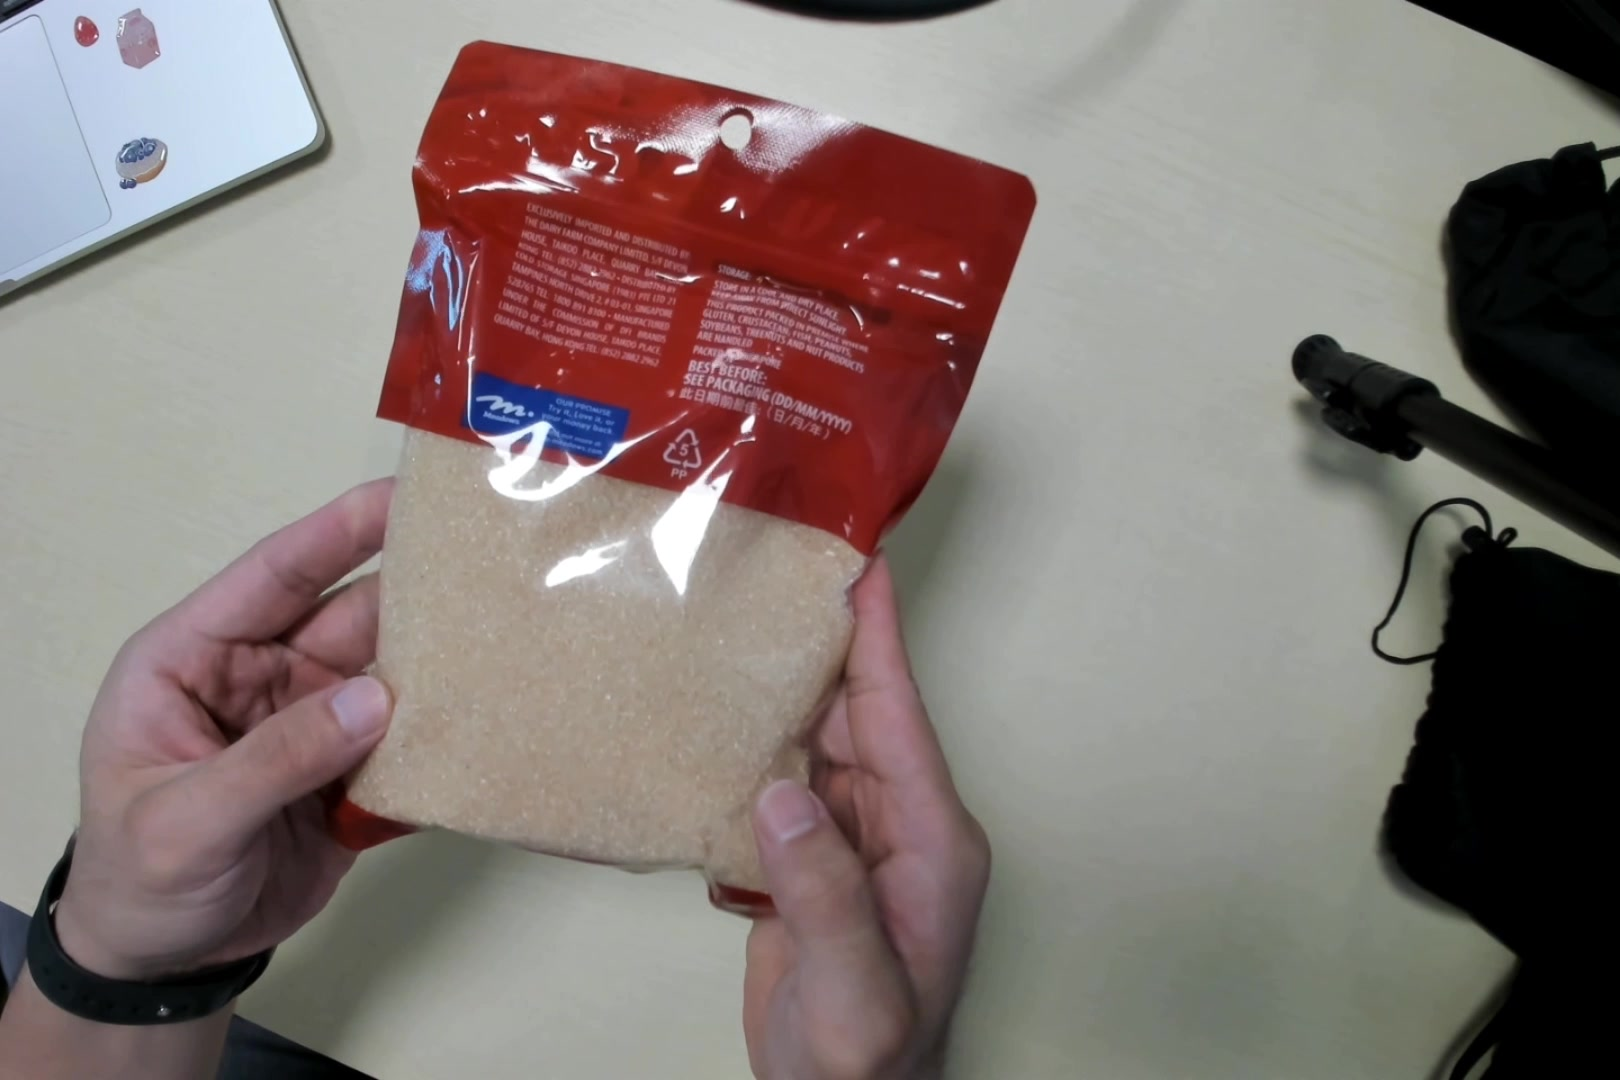Suger_200-299g_Halal_NonHealthy: (351, 33, 969, 914)
